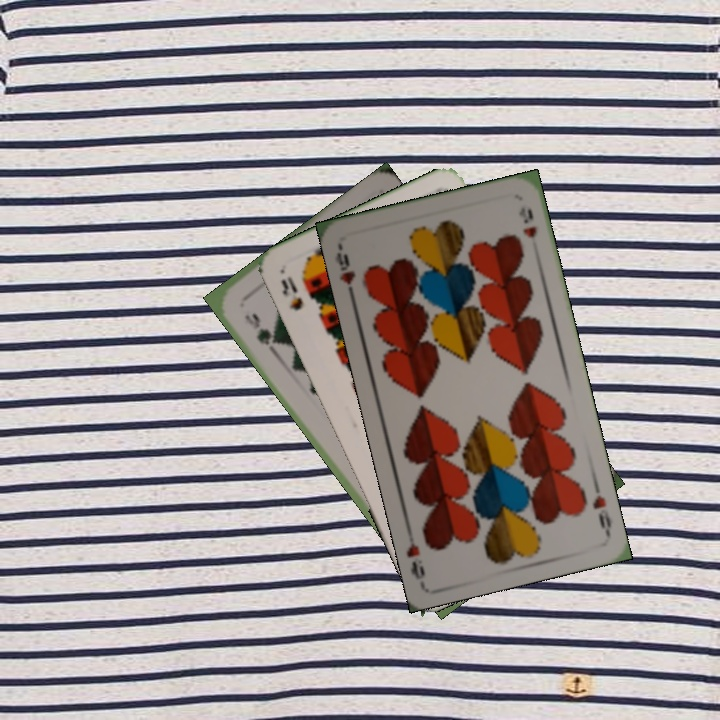G9: (240, 309, 278, 352)
H9: (331, 243, 358, 301), (588, 479, 614, 537)
S8: (277, 271, 306, 313)
